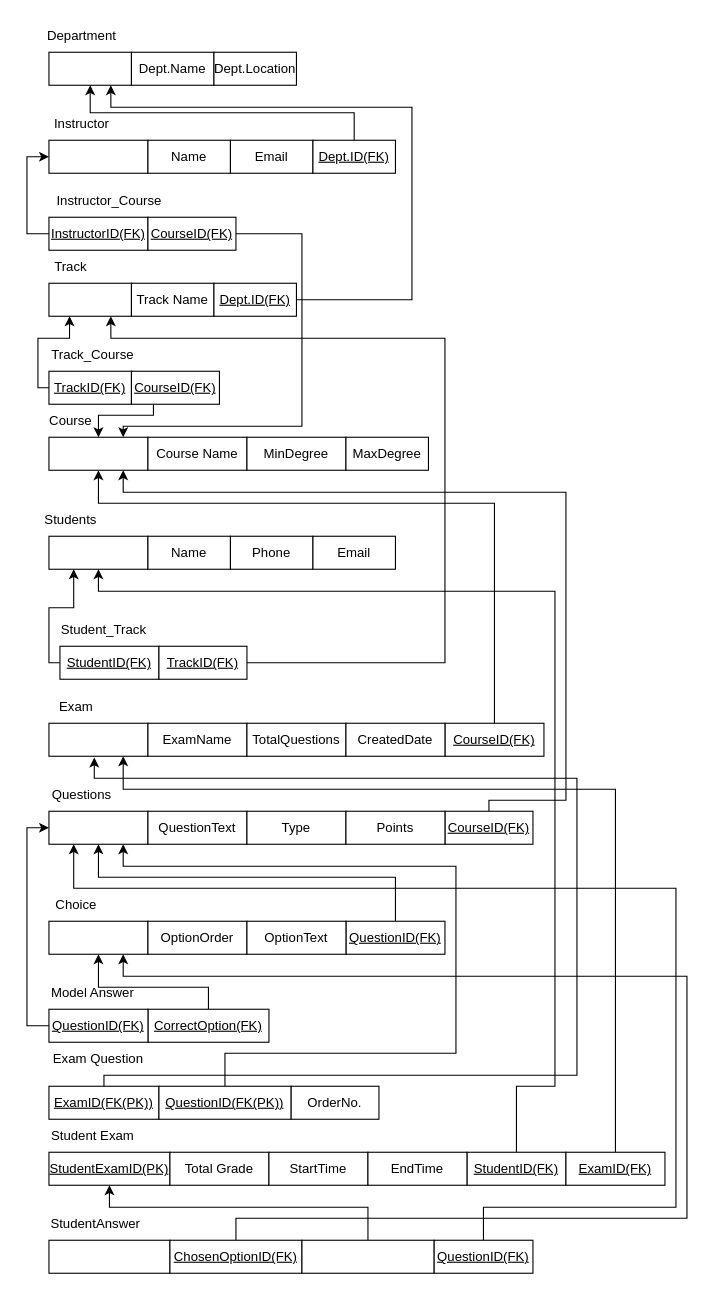
This 715x1293 diagram has some shape labels left out. Each missing label, with the centre of its shape:
"CourseID(PK)" belongs at (98,453).
"Dept.ID(PK)" belongs at (89,68).
"ExamID(PK)" belongs at (98,739).
"InstructorID(PK)" belongs at (98,156).
"OptionID(PK)" belongs at (98,937).
"QuestionID(PK)" belongs at (98,827).
"StudentAnswer(PK)" belongs at (109,1256).
"StudentExamID(FK)" belongs at (367,1256).
"StudentID(PK)" belongs at (98,552).
"TrackID(PK)" belongs at (89,299).
